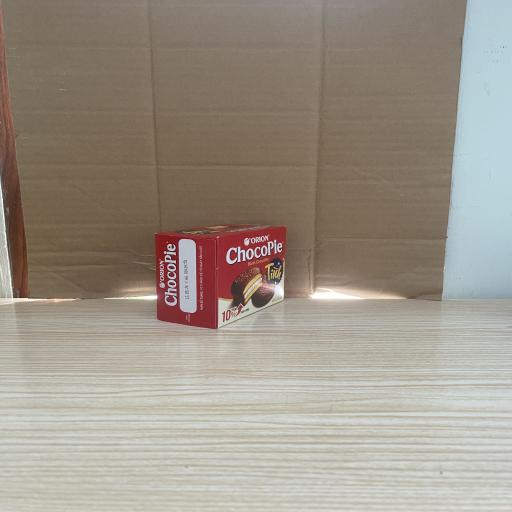chocopie: (154, 224, 286, 329)
